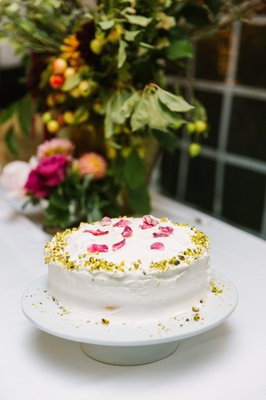curry: (0, 183, 266, 396)
sushi: (35, 213, 227, 353), (40, 214, 221, 318)
